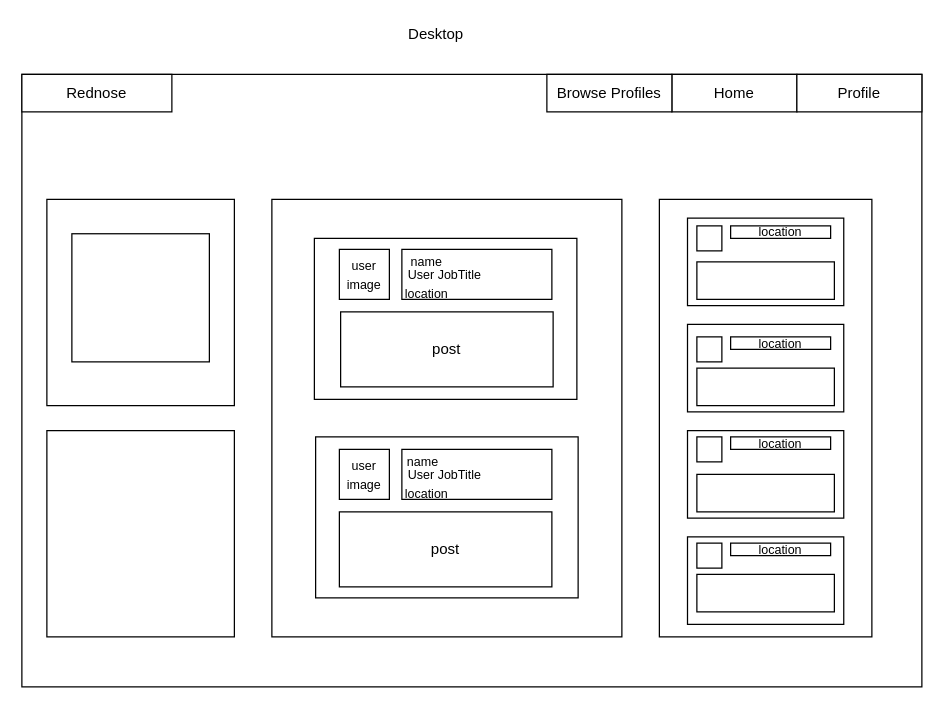
The diagram is 944 pixels wide and 709 high, and some of its shapes have lost their labels. The centre of each missing label's shape, as x and y in pixels:
About me: the point at 140,533
profile picture: the point at 140,297
